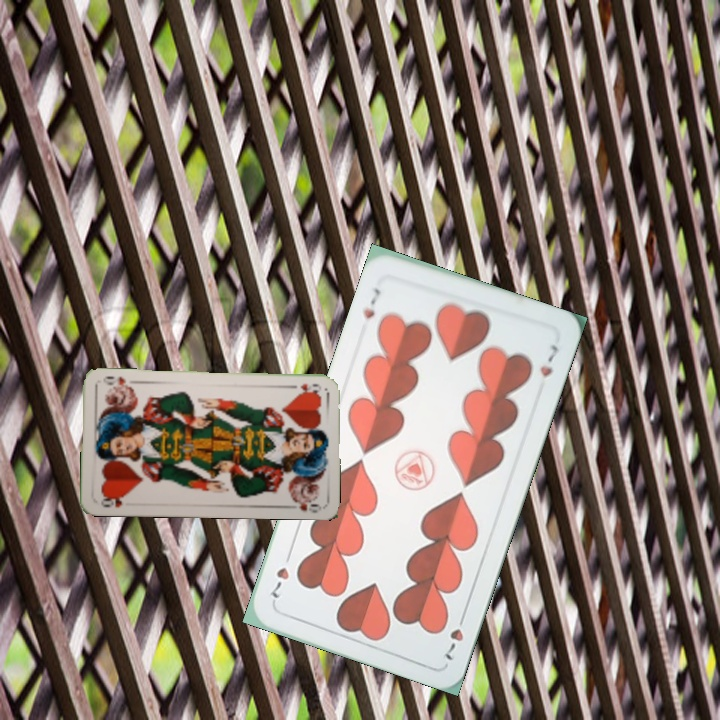H7: (441, 608, 469, 663), (358, 284, 383, 322)
HO: (285, 379, 324, 394), (96, 492, 127, 510)
